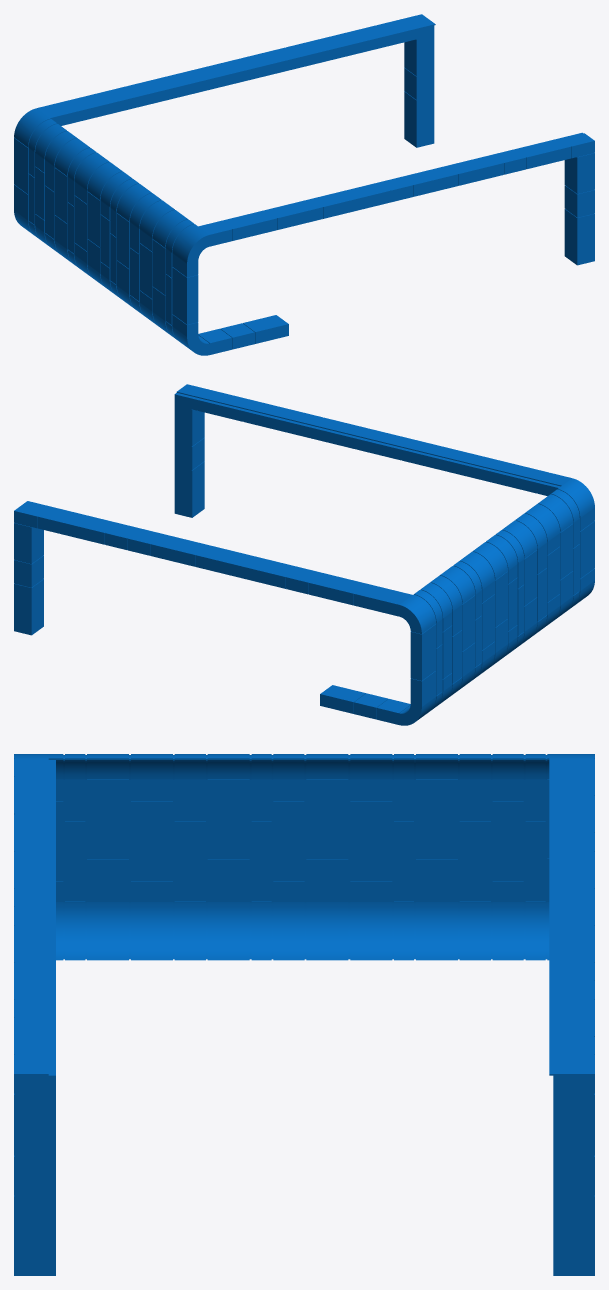
File: metal_panel1.FBX
The picture shows the model from 3 angles, top to bottom: view 1: azimuth 30°, elevation 25°; view 2: azimuth 150°, elevation 25°; view 3: azimuth 270°, elevation 25°; orthographic projection. The views are drawn at different scales.
Visible parts, largest first — view 1: m_bluebox; view 2: m_bluebox; view 3: m_bluebox.
Part boxes in pixels (bbox=[...]): m_bluebox: bbox=[14, 14, 594, 355]; m_bluebox: bbox=[14, 384, 594, 725]; m_bluebox: bbox=[14, 754, 594, 1275].
Bounding box in the file's own units: 1099 × 310 × 808.
